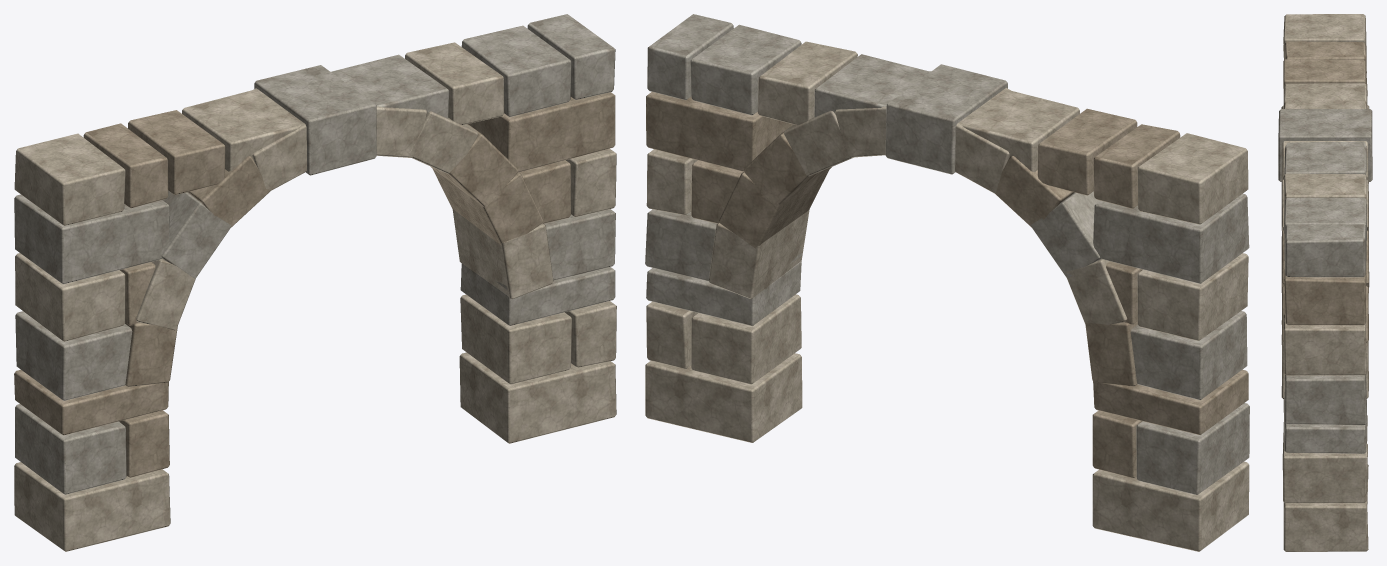
File: Arch_3m.glb
3 views of the same model, side by side, from view 1: azimuth 30°, elevation 25°; view 2: azimuth 150°, elevation 25°; view 3: azimuth 270°, elevation 25° (orthographic). The views are drawn at different scales.
Parts seen in each view (by area): view 1: Arch_3m; view 2: Arch_3m; view 3: Arch_3m.
Boxes of the visible parts, x1=… form: Arch_3m: x1=14, y1=14, x2=616, y2=551; Arch_3m: x1=645, y1=14, x2=1249, y2=551; Arch_3m: x1=1278, y1=14, x2=1372, y2=551.
Size of the model in its own units: 4.99 by 3.23 by 0.8694.
3 materials, 3 textured.
